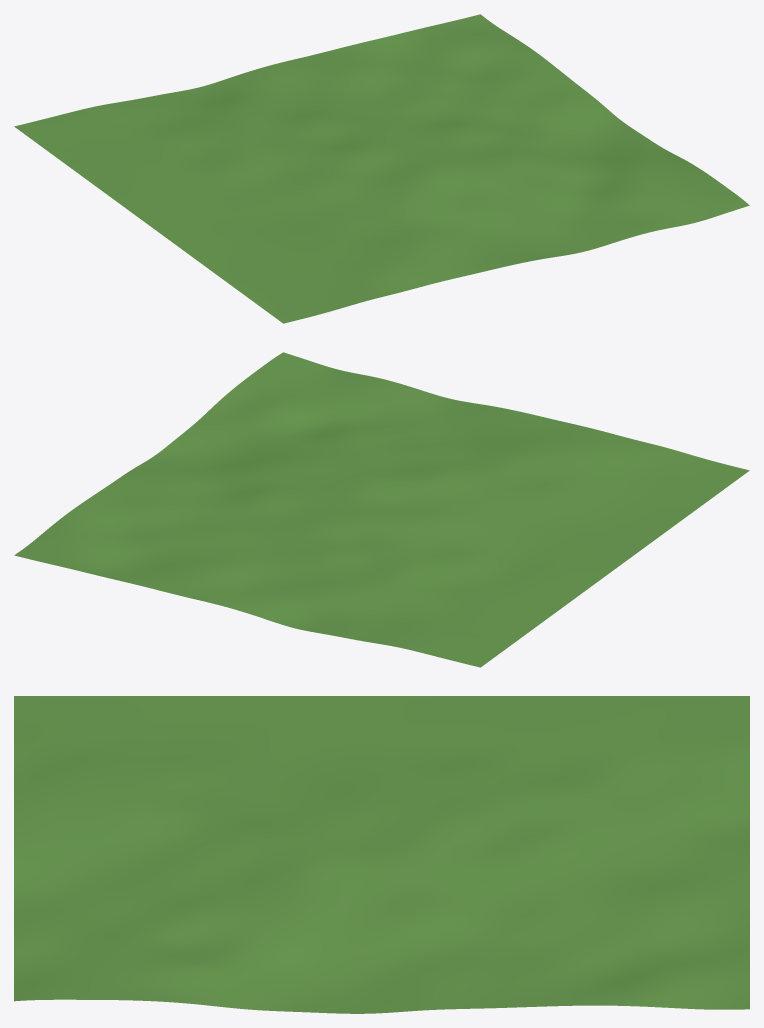
File: SM_Terrain_00_01.fbx
3 views of the same model, one above another, from view 1: azimuth 30°, elevation 25°; view 2: azimuth 150°, elevation 25°; view 3: azimuth 270°, elevation 25° (orthographic). The views are drawn at different scales.
Parts seen in each view (by area): view 1: SM_Terrain_00_01; view 2: SM_Terrain_00_01; view 3: SM_Terrain_00_01.
Boxes of the visible parts, x1,y1,x2,y2 form: SM_Terrain_00_01: [14, 14, 749, 323]; SM_Terrain_00_01: [14, 352, 749, 667]; SM_Terrain_00_01: [14, 696, 749, 1013].
Bounding box in the file's own units: 384 × 10.38 × 384.
